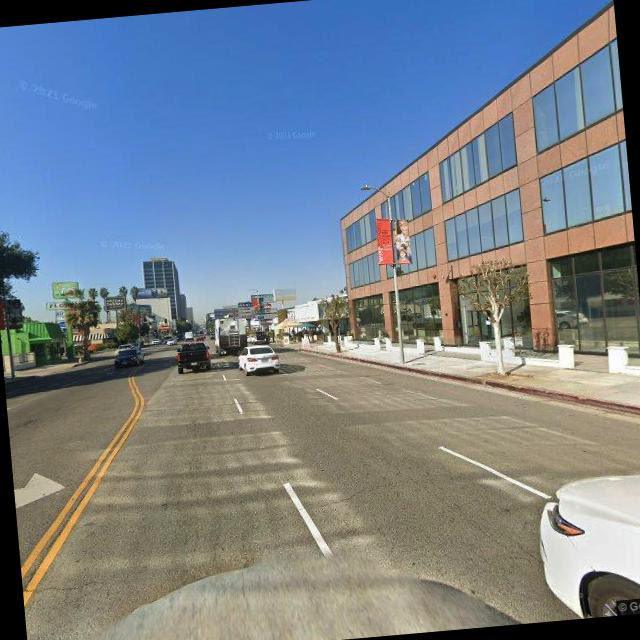crack: (22, 574, 106, 598)
